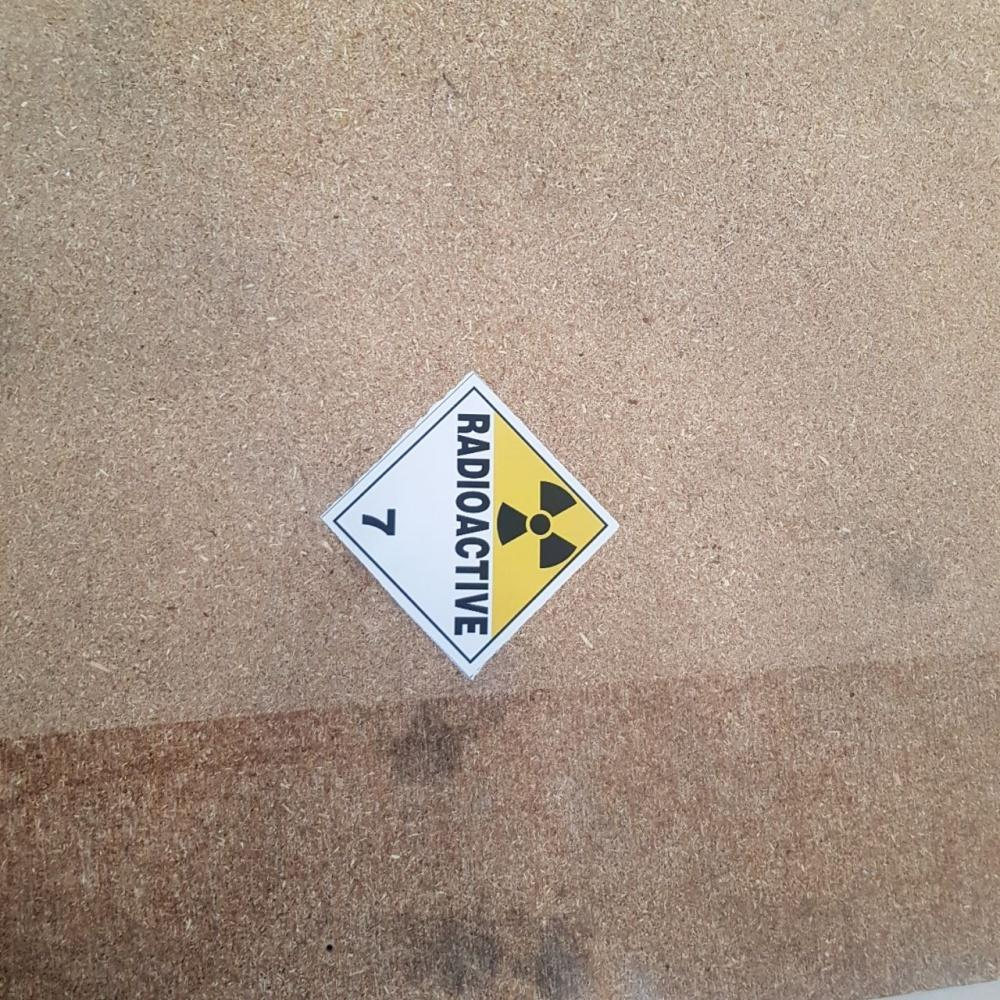radioactive: (331, 373, 619, 674)
